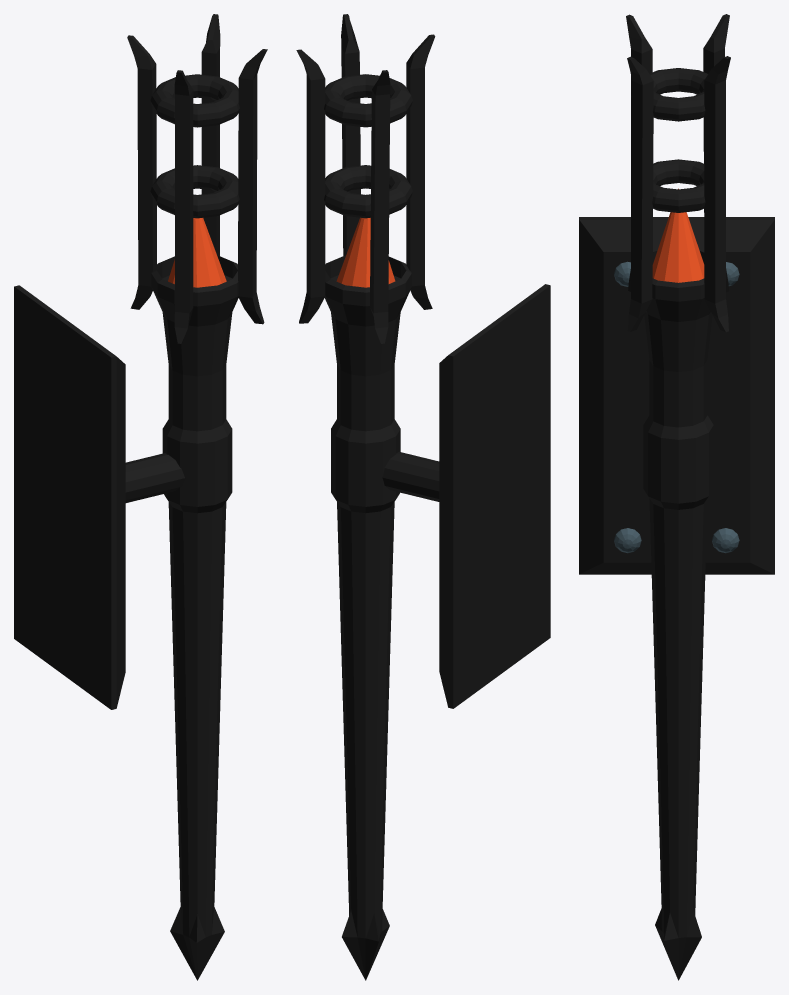
Rendered from torchLit.obj.
The picture shows the model from 3 angles, left to right: view 1: azimuth 30°, elevation 25°; view 2: azimuth 150°, elevation 25°; view 3: azimuth 270°, elevation 25°; orthographic projection.
Parts seen in each view (by area): view 1: group1973960048, group761370417, group1325366676, group1334590662, group248898075, group1676030532, group2109608687, group483675441, group1549437080, group1647646718, group569185382; view 2: group1973960048, group761370417, group1549437080, group1325366676, group1676030532, group248898075, group2109608687, group483675441, group1334590662, group1647646718, group569185382; view 3: group1973960048, group761370417, group1325366676, group1334590662, group1549437080, group569185382, group2109608687, group483675441, group248898075, group1676030532, group1857981963, group1347934693.
Boxes of the visible parts, left/top/right/bottom form: group1973960048: left=14, top=285, right=125, bottom=709; group761370417: left=151, top=255, right=238, bottom=980; group1325366676: left=162, top=419, right=232, bottom=513; group1334590662: left=238, top=49, right=267, bottom=324; group248898075: left=174, top=70, right=193, bottom=343; group1676030532: left=127, top=35, right=156, bottom=309; group2109608687: left=150, top=74, right=239, bottom=127; group483675441: left=150, top=165, right=239, bottom=218; group1549437080: left=201, top=14, right=220, bottom=256; group1647646718: left=125, top=453, right=184, bottom=502; group569185382: left=168, top=218, right=226, bottom=287; group1973960048: left=439, top=284, right=550, bottom=708; group761370417: left=324, top=255, right=411, bottom=980; group1549437080: left=296, top=49, right=325, bottom=323; group1325366676: left=331, top=419, right=400, bottom=513; group1676030532: left=370, top=70, right=390, bottom=343; group248898075: left=406, top=34, right=435, bottom=309; group2109608687: left=324, top=74, right=412, bottom=127; group483675441: left=324, top=165, right=412, bottom=218; group1334590662: left=341, top=14, right=360, bottom=255; group1647646718: left=382, top=451, right=439, bottom=501; group569185382: left=336, top=217, right=395, bottom=287; group1973960048: left=579, top=217, right=774, bottom=574; group761370417: left=644, top=251, right=712, bottom=980; group1325366676: left=643, top=415, right=713, bottom=509; group1334590662: left=627, top=56, right=653, bottom=331; group1549437080: left=704, top=56, right=730, bottom=332; group569185382: left=652, top=188, right=704, bottom=282; group2109608687: left=631, top=68, right=707, bottom=121; group483675441: left=631, top=159, right=705, bottom=212; group248898075: left=626, top=14, right=652, bottom=291; group1676030532: left=703, top=14, right=729, bottom=292; group1857981963: left=712, top=528, right=739, bottom=553; group1347934693: left=614, top=528, right=641, bottom=553.
Size of the model in its own units: 0.6919 by 3.41 by 0.64.
